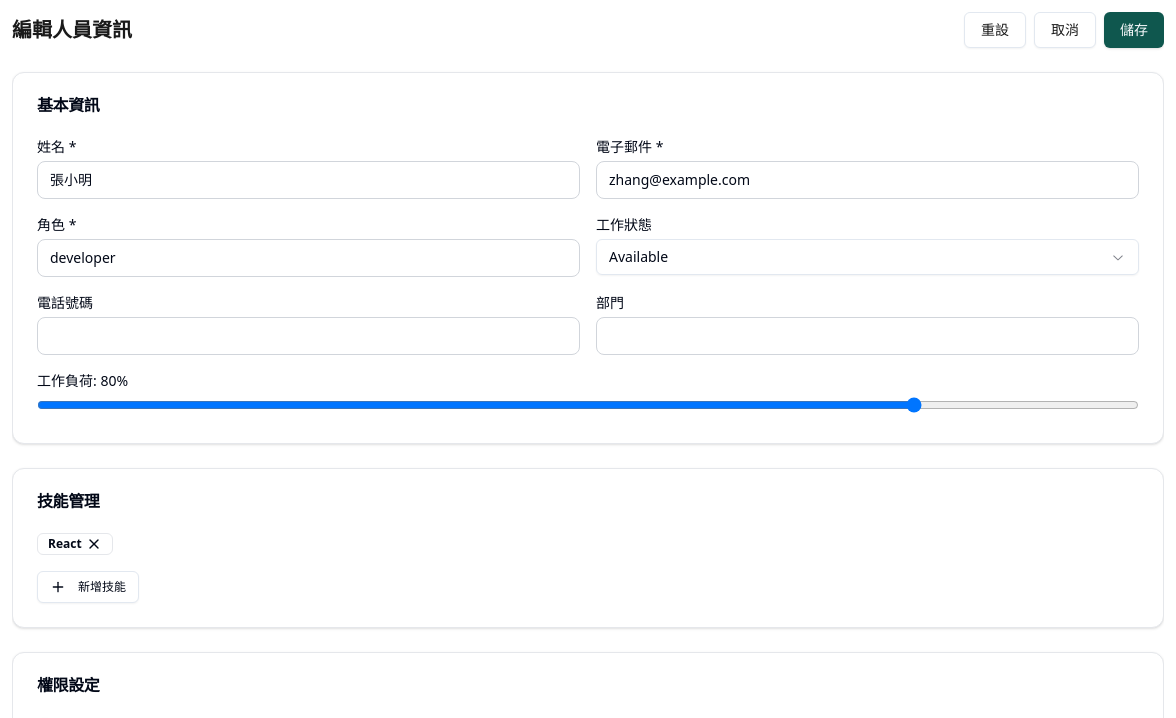
it: MemberEditForm › 應該支援刪除技能
The width and height of the screenshot is (1176, 718).
Step 1. Click the button named "刪除技能 React" → point(94, 544), box [86, 536, 102, 552]
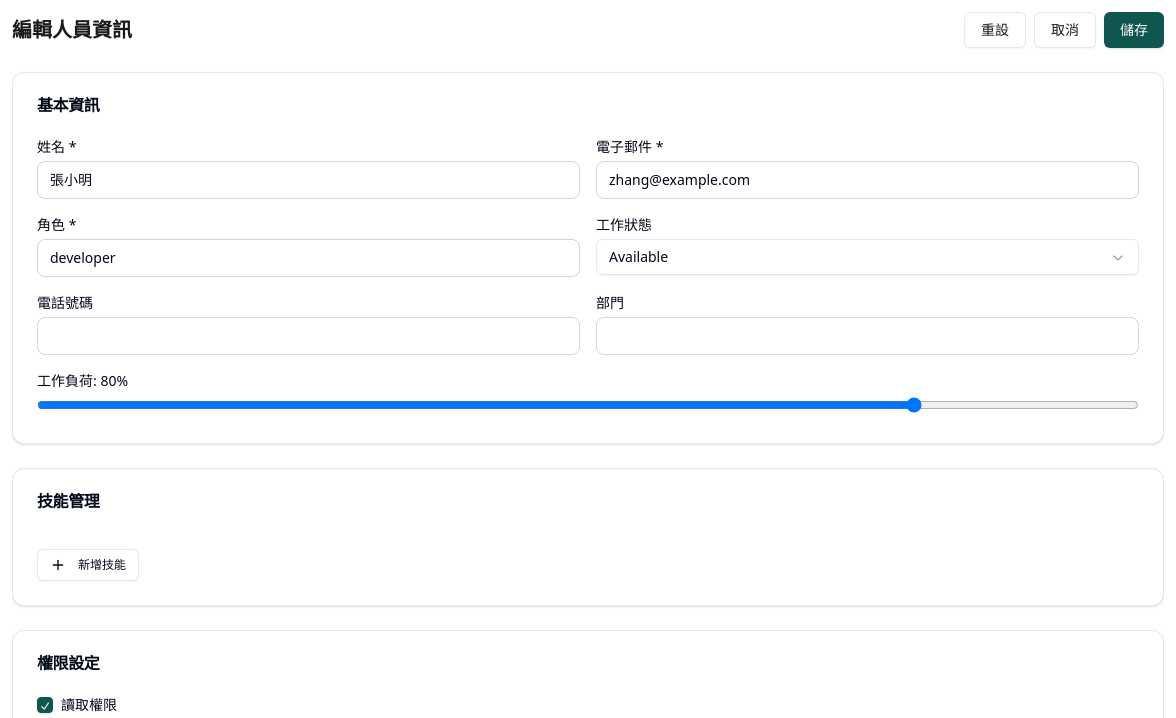
Check: the text "React" is gone
